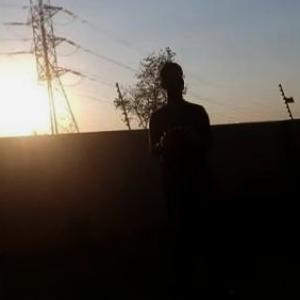follow: (143, 52, 235, 289)
